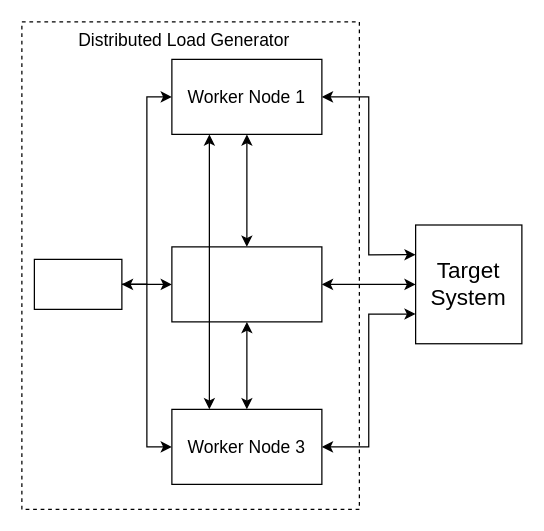
Some shapes in this 544 by 531 pixel diagram are drawn without their labels. Here are the shapes that lost their labels. From the top down, the centre of each, then its label:
point (77, 283): Controller
point (246, 284): Worker Node 2
